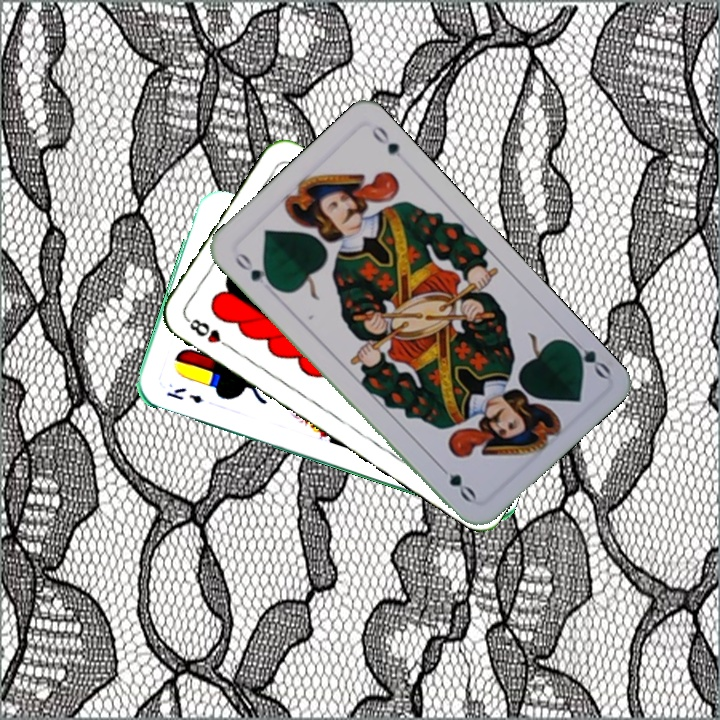EK: (163, 383, 206, 406)
GO: (562, 332, 613, 381), (231, 247, 278, 291)
H8: (182, 314, 235, 352)
